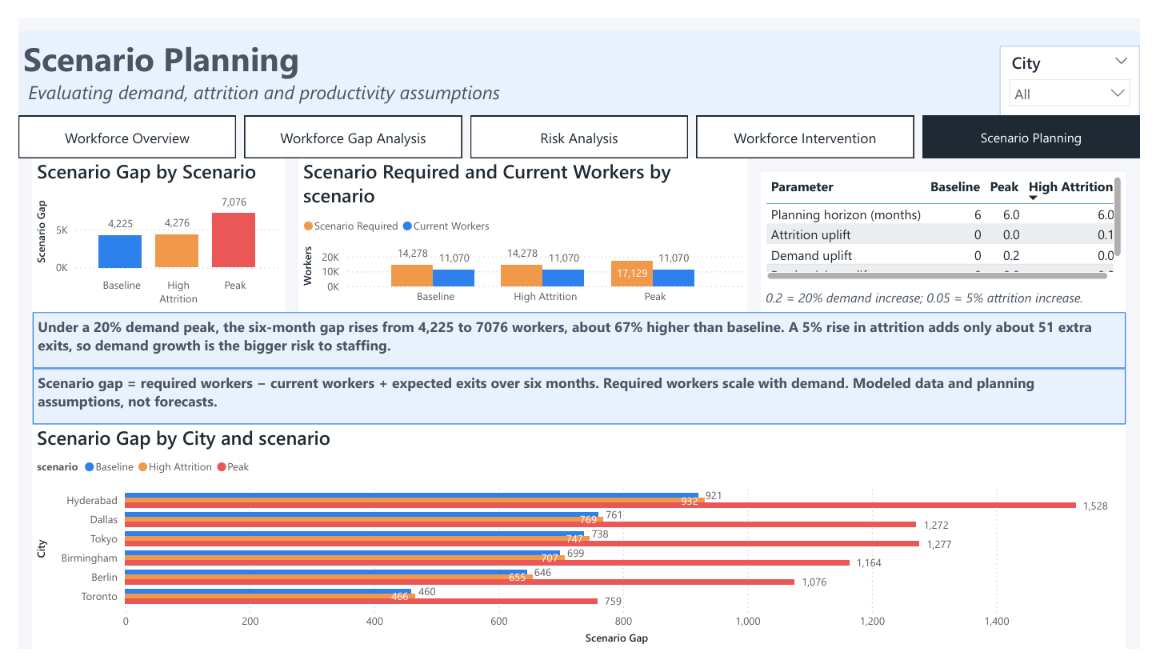

Layout of this report page (visuals, bound fields, positions):
{"tool":"powerbi","page":{"name":"Scenario Planning","canvas":[1280,720],"ordinal":4},"visuals":[{"type":"textbox","box":[0,16,1280,96],"z":0},{"type":"slicer","fields":{"Values":["facilities.city"]},"box":[1120,32,160,80],"z":1000},{"type":"clusteredColumnChart","fields":{"Category":["vw_scenario_results.scenario"],"Y":["vw_scenario_results.Scenario Gap"]},"box":[16,160,288,176],"z":2000},{"type":"clusteredColumnChart","fields":{"Y":["facilities.Scenario Required","_Measures.Current Workers"],"Category":["vw_scenario_results.scenario"]},"box":[320,160,512,176],"z":3000},{"type":"clusteredBarChart","fields":{"Category":["facilities.City"],"Y":["vw_scenario_results.Scenario Gap"],"Series":["vw_scenario_results.scenario"]},"box":[16,464,1248,256],"z":4000},{"type":"tableEx","fields":{"Values":["scenario_inputs.Parameter","Sum(scenario_inputs.Baseline)","Sum(scenario_inputs.Peak)","Sum(scenario_inputs.High Attrition)"]},"box":[848,176,416,128],"z":5000},{"type":"textbox","box":[848,304,416,48],"z":6000},{"type":"textbox","box":[16,336,1248,64],"z":7000},{"type":"textbox","box":[16,400,1248,64],"z":8000},{"type":"pageNavigator","box":[0,112,1280,48],"z":9000}]}

Visuals, with their boxes in screenshot pixels (x1, y1, x2, y2), scaled from the page's 1280x720 canvas onto the 1154x668 screenshot:
textbox: <box>0,15,1153,104</box>
slicer - facilities.city: <box>1010,30,1153,104</box>
clusteredColumnChart - vw_scenario_results.scenario x vw_scenario_results.Scenario Gap: <box>14,148,274,312</box>
clusteredColumnChart - facilities.Scenario Required x _Measures.Current Workers: <box>288,148,750,312</box>
clusteredBarChart - facilities.City x vw_scenario_results.Scenario Gap: <box>14,430,1140,667</box>
tableEx - scenario_inputs.Parameter x Sum(scenario_inputs.Baseline): <box>765,163,1140,282</box>
textbox: <box>765,282,1140,327</box>
textbox: <box>14,312,1140,371</box>
textbox: <box>14,371,1140,430</box>
pageNavigator: <box>0,104,1153,148</box>
